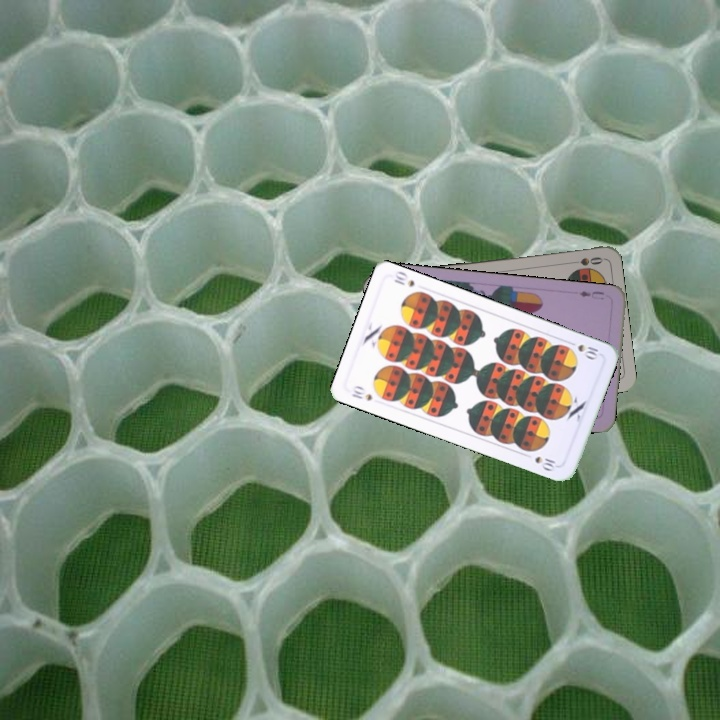EU: (575, 286, 607, 302)
S10: (564, 337, 601, 362), (348, 381, 375, 403)
SO: (565, 253, 605, 268)
